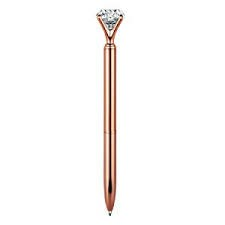pen: (100, 10, 121, 215)
